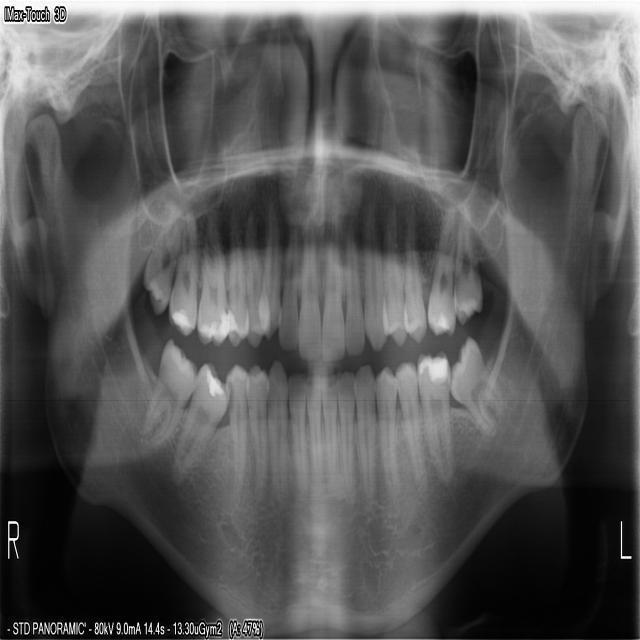LCD: (351, 363, 373, 493)
LID: (334, 370, 355, 503), (319, 371, 336, 490)
LIU: (319, 209, 342, 359), (342, 224, 362, 352)
LMD: (448, 332, 503, 430), (413, 346, 452, 482)
LPMD: (393, 359, 424, 494), (371, 362, 396, 503)
RCD: (265, 359, 287, 508)
RCU: (256, 199, 280, 340)
RID: (285, 373, 307, 492), (305, 373, 322, 482)
RIU: (425, 202, 453, 334), (450, 205, 481, 324), (379, 205, 405, 345), (361, 203, 385, 347), (295, 219, 319, 362), (401, 204, 425, 342), (275, 225, 296, 349)
RMD: (168, 362, 228, 482), (138, 336, 195, 444)
RMU: (195, 205, 227, 343), (140, 199, 179, 312), (166, 208, 194, 334)
RPMD: (243, 363, 268, 500), (223, 363, 246, 508)
RPMU: (243, 208, 268, 345), (225, 212, 249, 344)
